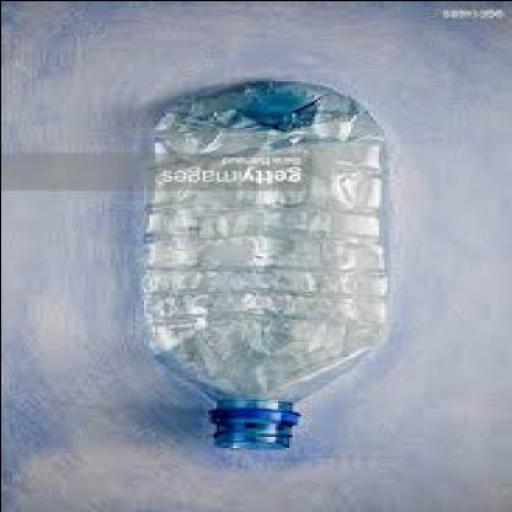plastic: (134, 84, 389, 453)
